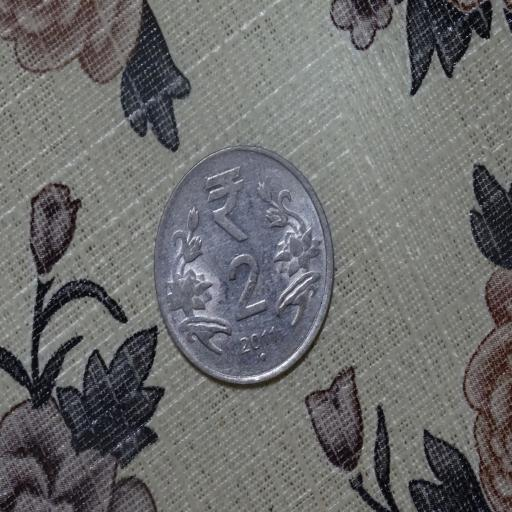rupee2: (152, 150, 334, 387)
